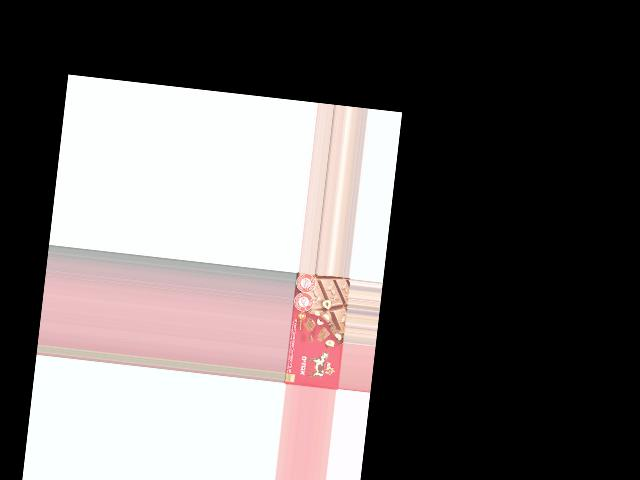chocolate: (285, 272, 350, 390)
